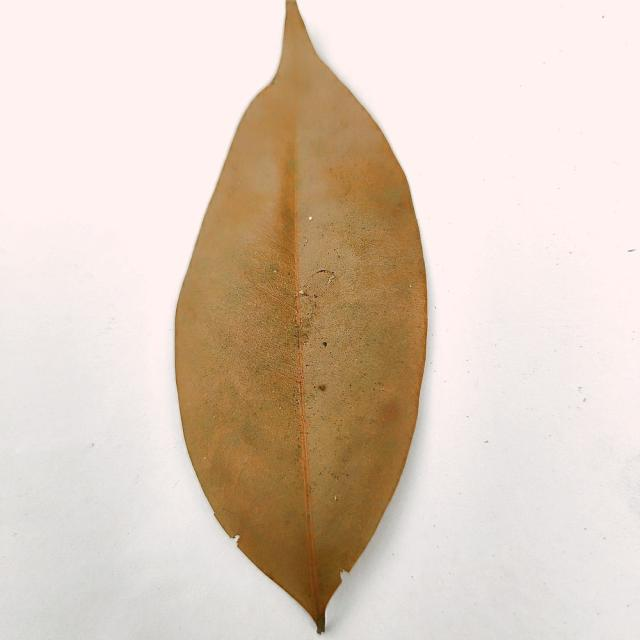Dry_Leaf-Lychee: (173, 0, 429, 632)
